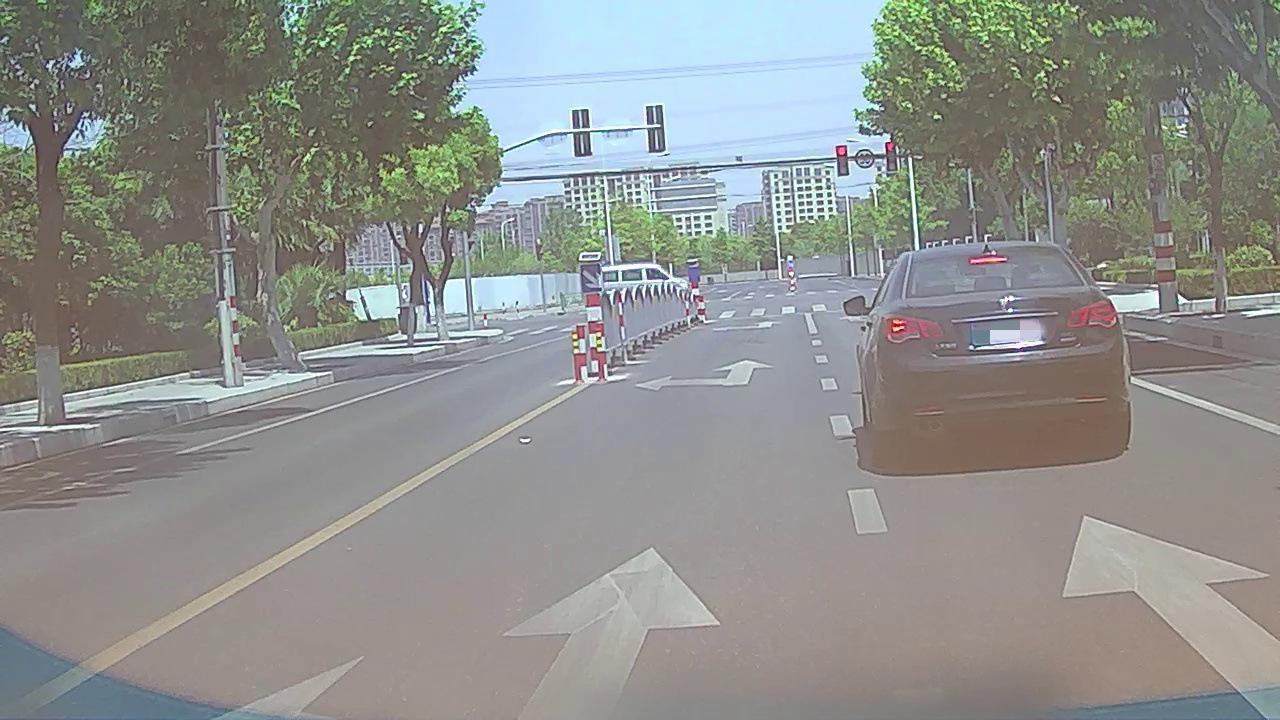traffic_light: (837, 145, 848, 175), (886, 141, 897, 171)
